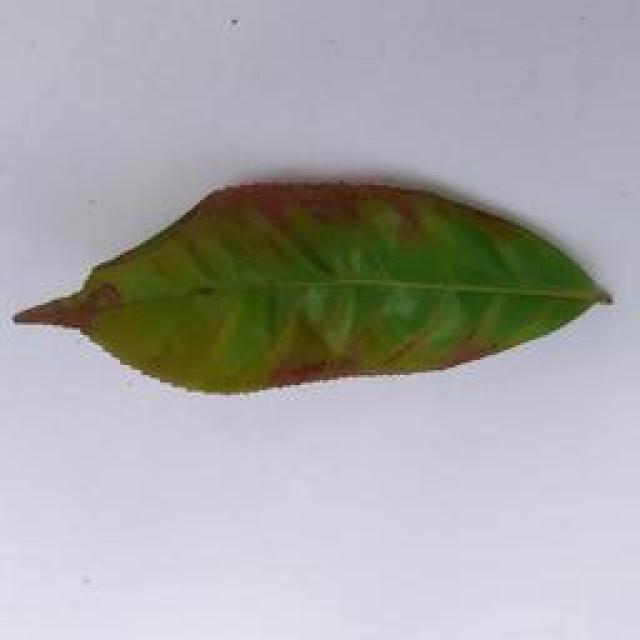Red Leaf Spot: (8, 167, 626, 399)
